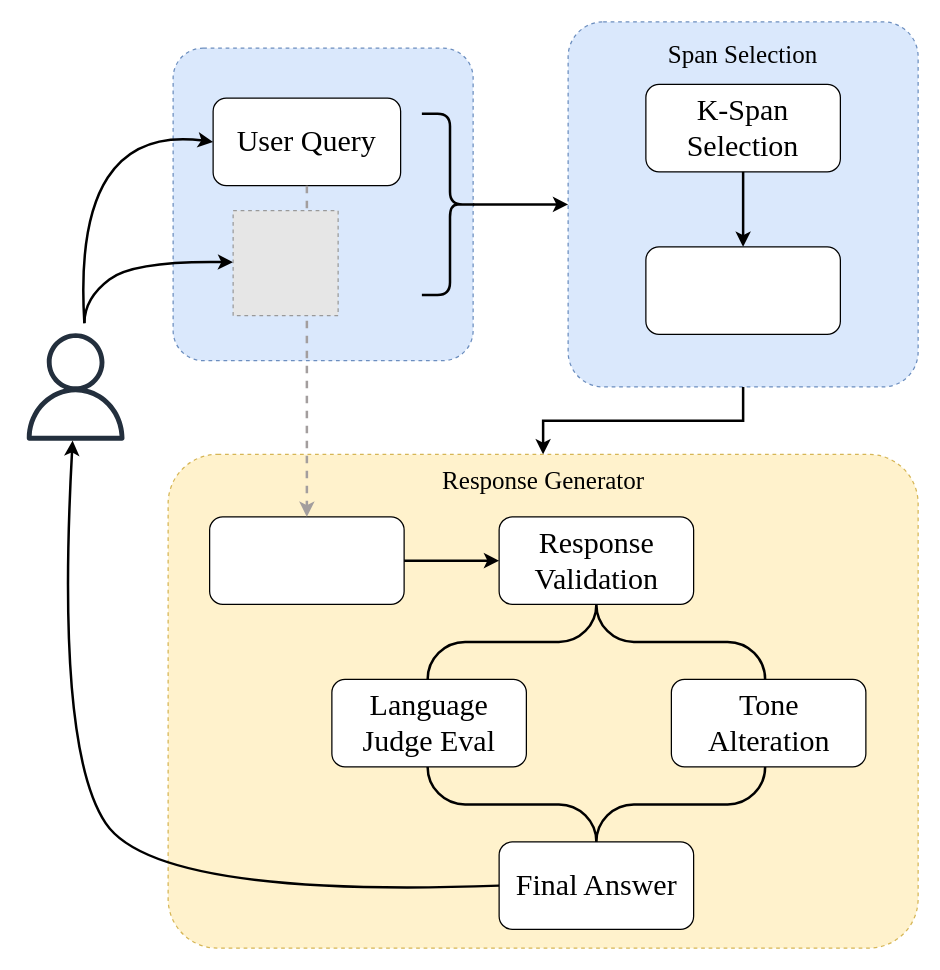
This 940x970 diagram has some shape labels left out. Grey dashed boxes stand in for pictures. Each missing label, with the box of its shape:
Response Generation: (208, 516, 404, 604)
Span Evaluation: (645, 246, 840, 334)
